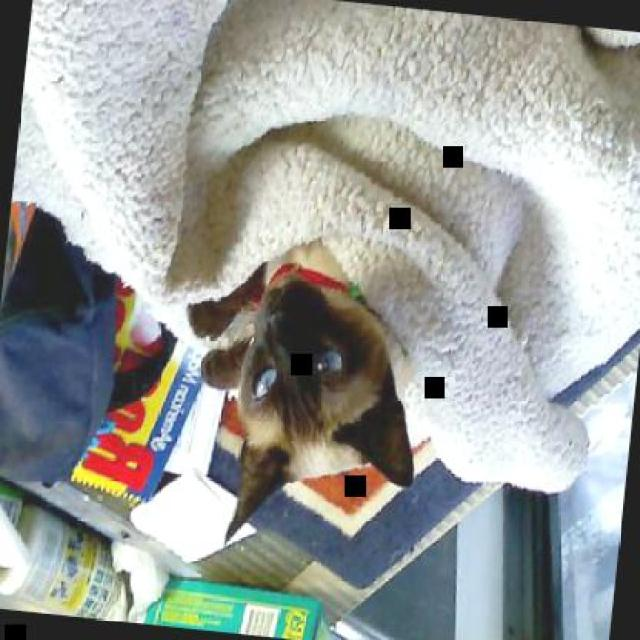cat: (161, 230, 437, 562)
